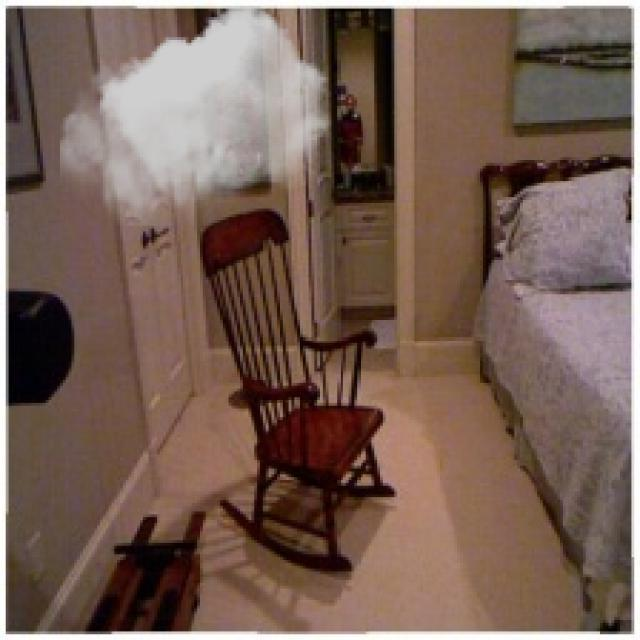Smoke: (60, 6, 332, 226)
